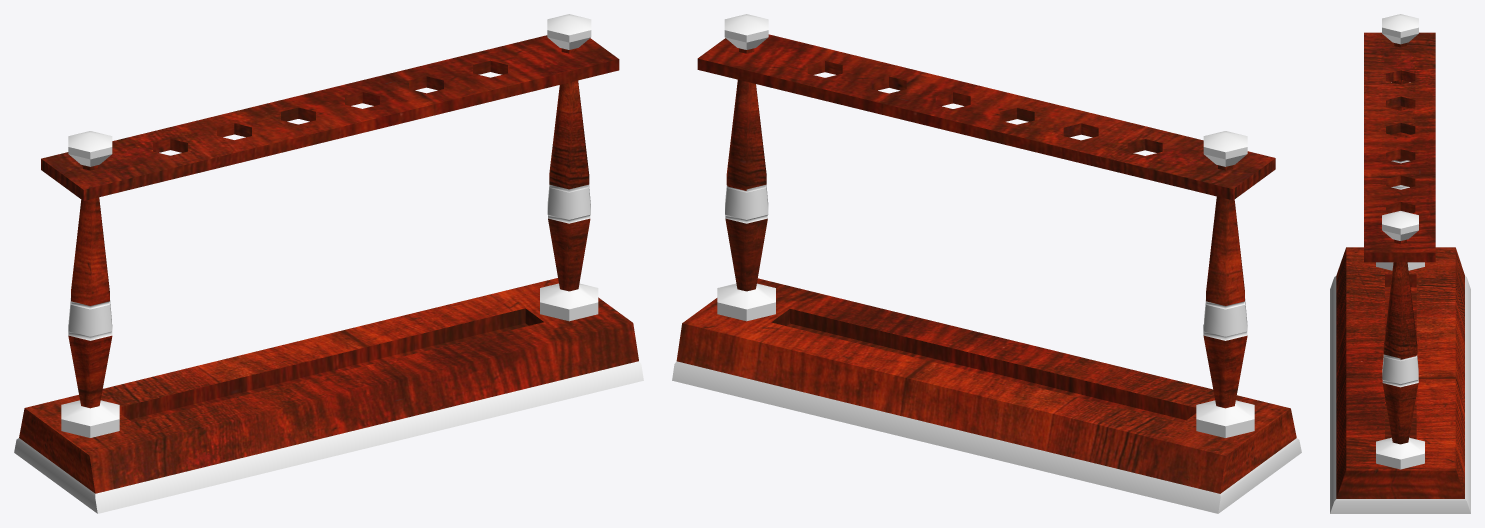
File: Test_Tube_Dock.FBX
3 views of the same model, side by side, from view 1: azimuth 30°, elevation 25°; view 2: azimuth 150°, elevation 25°; view 3: azimuth 270°, elevation 25° (orthographic). The views are drawn at different scales.
Parts seen in each view (by area): view 1: Test_Tube_Dock; view 2: Test_Tube_Dock; view 3: Test_Tube_Dock.
Boxes of the visible parts, box(x1,y1,x2,y2) form: Test_Tube_Dock: box(14, 14, 643, 513); Test_Tube_Dock: box(672, 14, 1301, 513); Test_Tube_Dock: box(1330, 14, 1470, 513).
Bounding box in the file's own units: 46.99 × 28.09 × 12.48.
